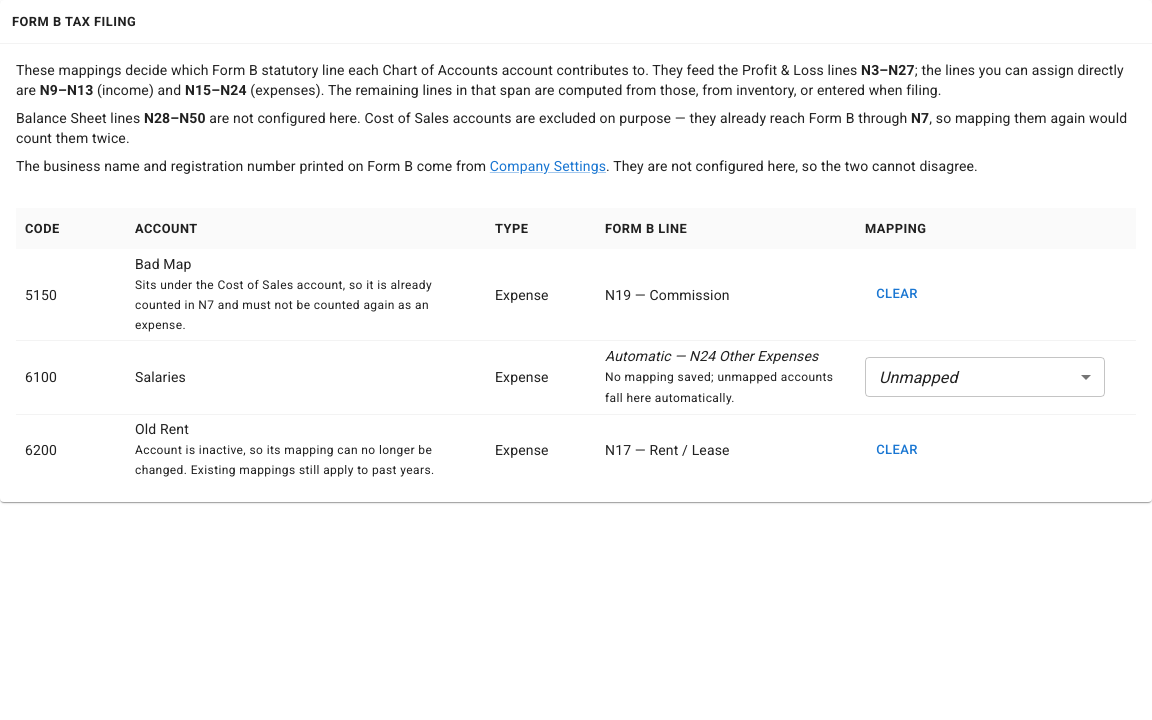
FormBMappingSection — staged drafts › stages a clear on an ineligible row without decorating it
Step 1. Click the button with test id "formb-map-clear-i1" → click(897, 450), box [865, 435, 929, 466]
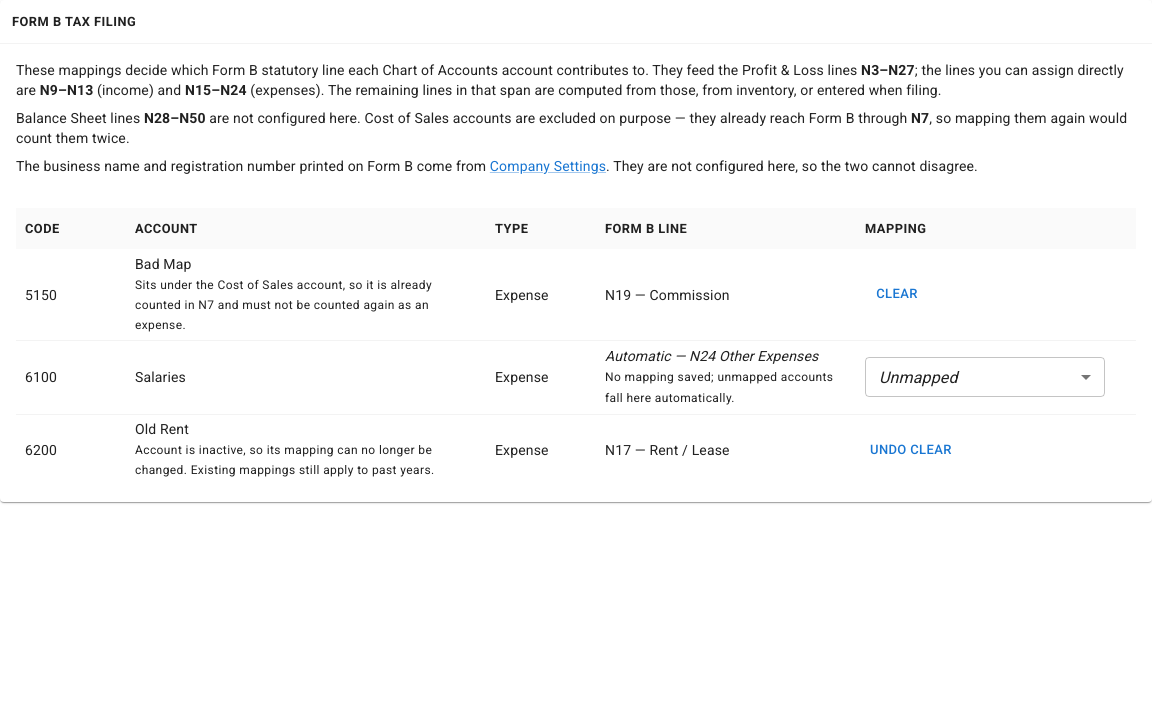
Expected: the text with test id "formb-map-line-i1" reads "N17 — Rent / Lease", [605, 442, 631, 458]
Expected: the button with test id "formb-map-clear-i1" reads "Undo clear", [865, 435, 957, 466]
